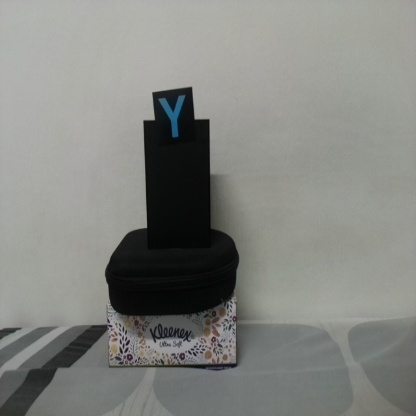id_14: (153, 93, 194, 147)
